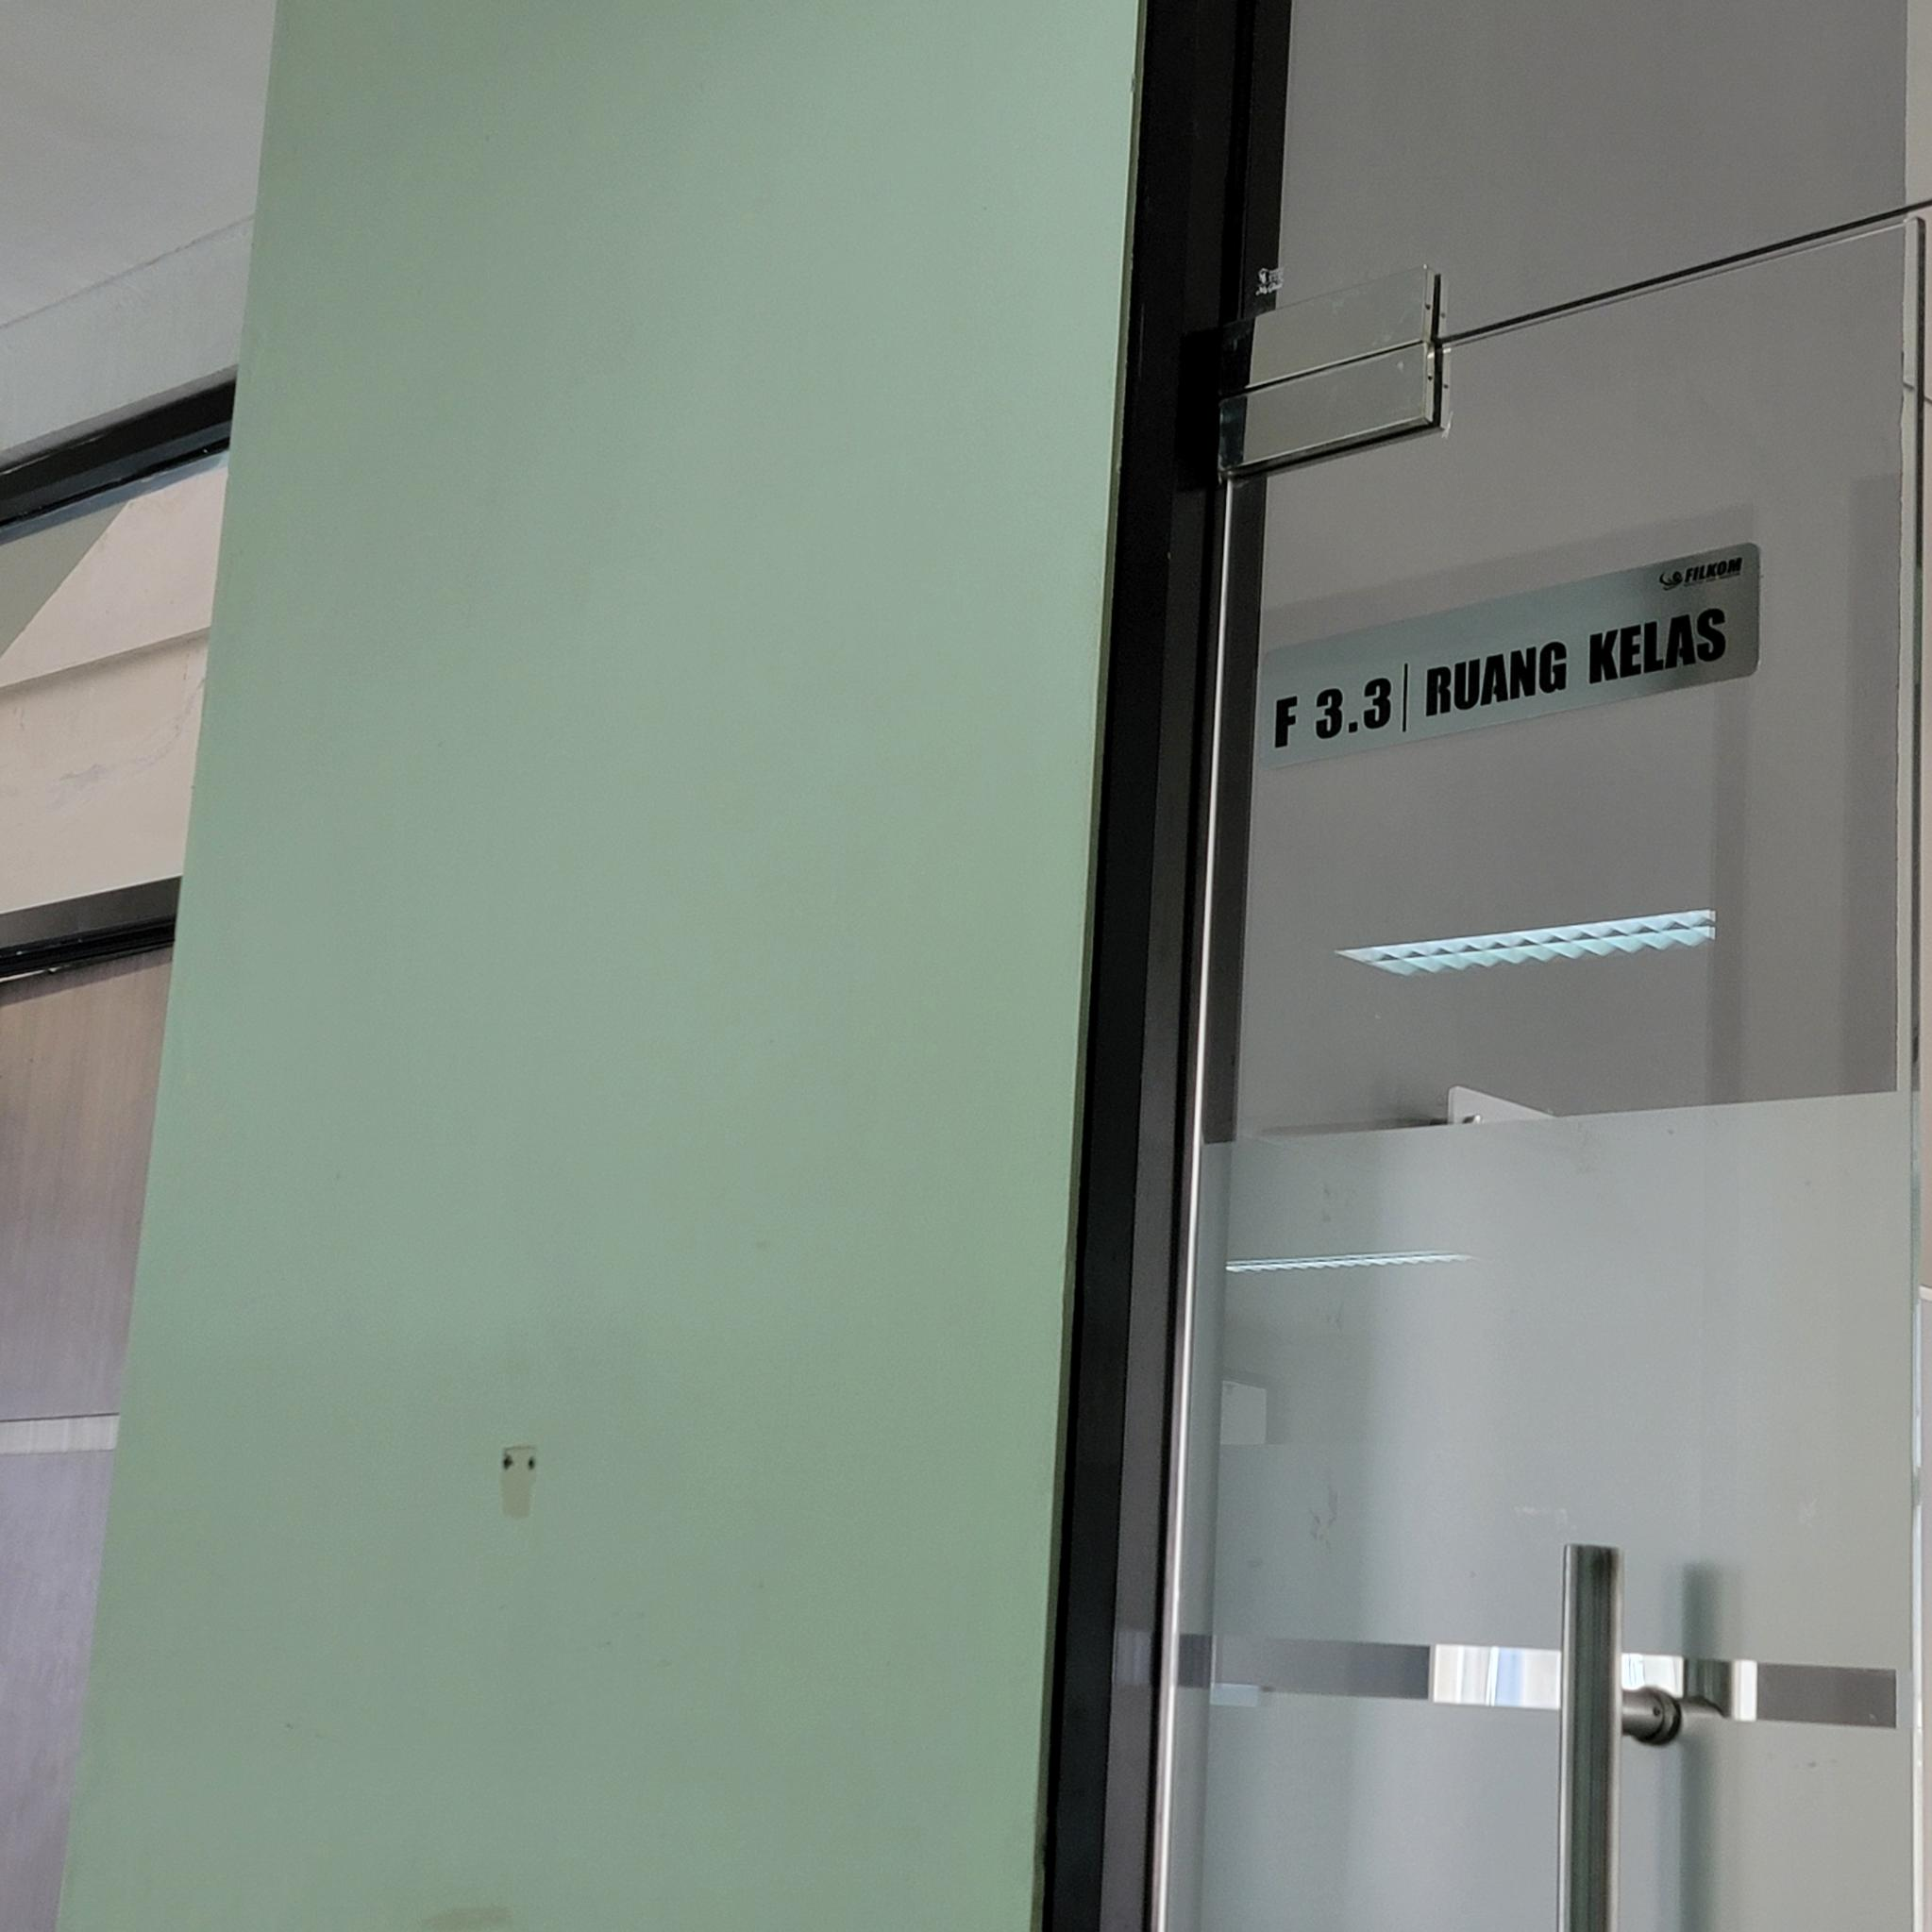plate: (1253, 543, 1764, 773)
